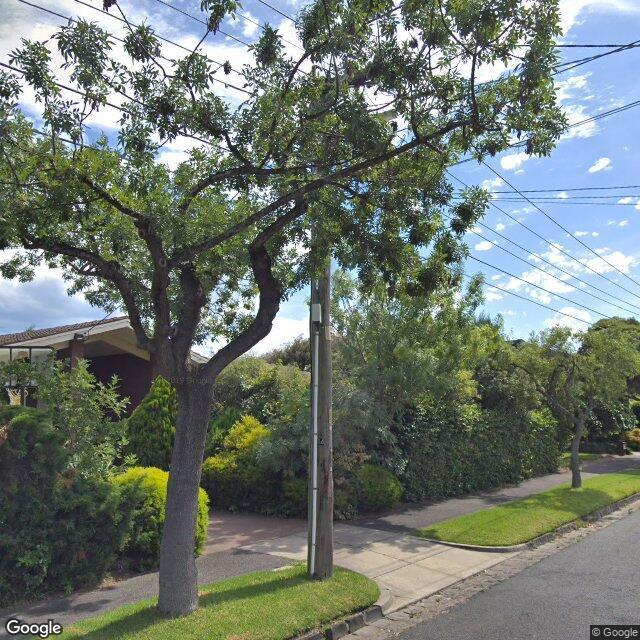timber-pole: (308, 242, 334, 576)
